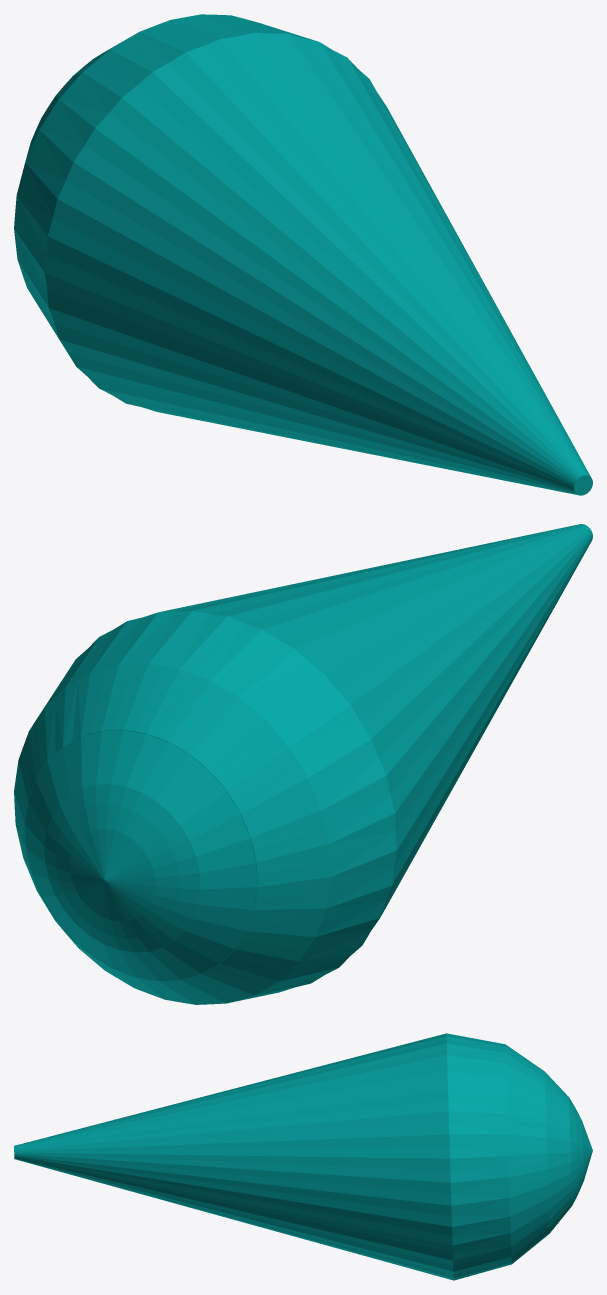
Rendered from laserbullet.obj.
3 renders of one model, top to bottom at view 1: azimuth 30°, elevation 25°; view 2: azimuth 150°, elevation 25°; view 3: azimuth 270°, elevation 25°, orthographic. The views are drawn at different scales.
Visible parts, largest first — view 1: Mesh_laserbullet; view 2: Mesh_laserbullet; view 3: Mesh_laserbullet.
Part boxes in pixels (bbox=[...]): Mesh_laserbullet: bbox=[14, 14, 592, 495]; Mesh_laserbullet: bbox=[14, 524, 592, 1004]; Mesh_laserbullet: bbox=[14, 1033, 592, 1280].
Size of the model in its own units: 0.3243 by 0.3242 by 0.7594.
